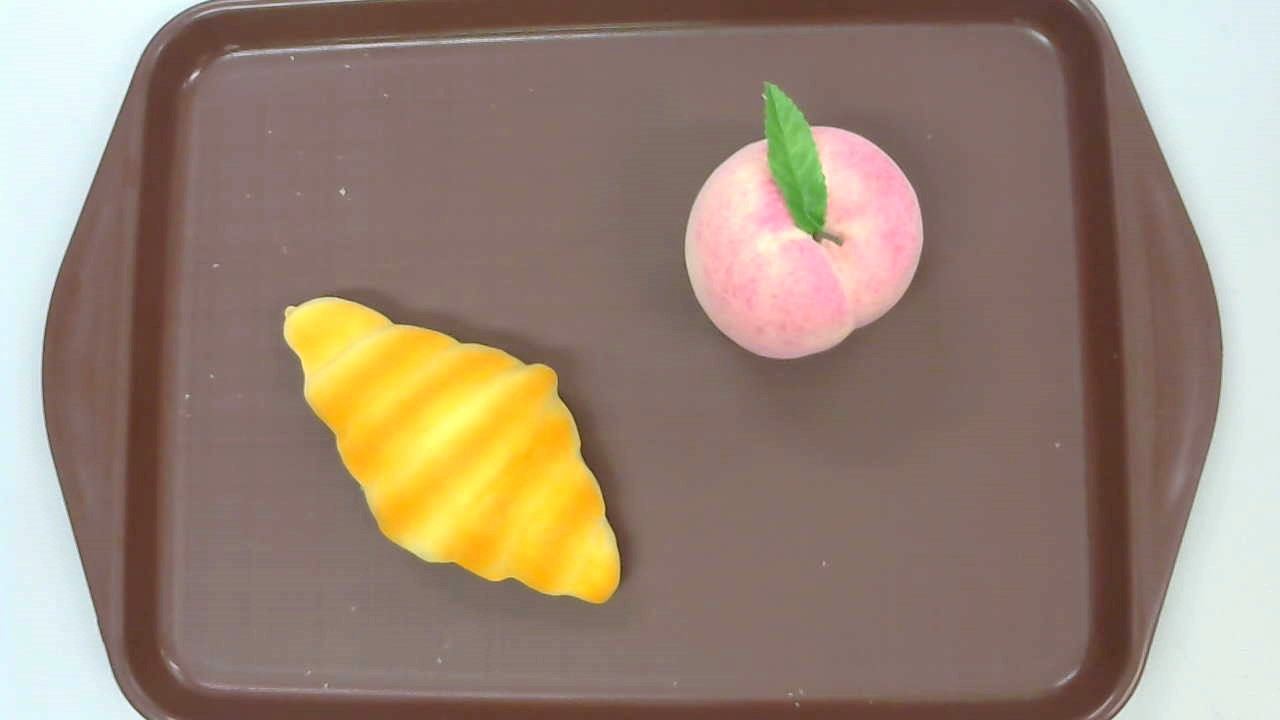croissant: (281, 297, 622, 605)
peach: (685, 80, 924, 361)
